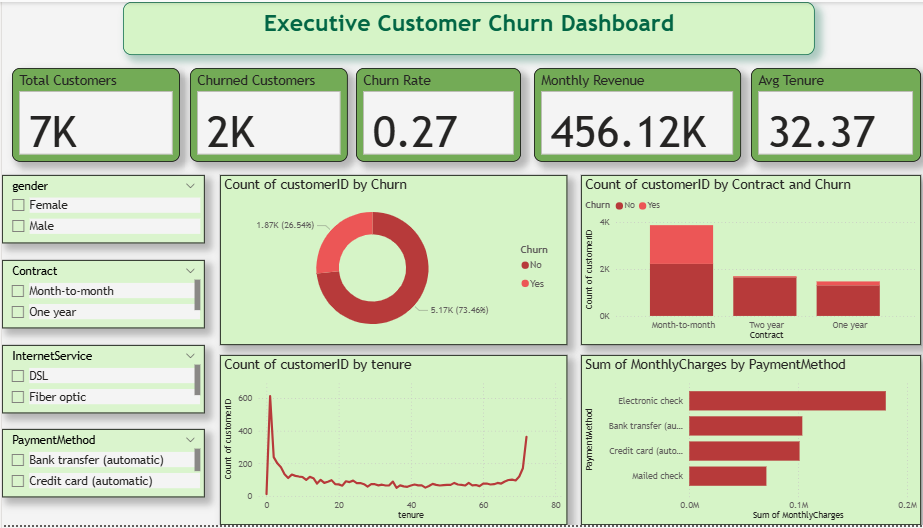

What the dashboard file says about the page in this screenshot:
{"tool":"powerbi","page":{"name":"Executive Customer Churn Dashboard","canvas":[1280,720],"ordinal":0},"visuals":[{"type":"cardVisual","title":"Total Customers","fields":{"Data":["telco.Total Customers"]},"box":[13.8,90.8,231.2,129.4],"z":2},{"type":"cardVisual","title":"Churned Customers","fields":{"Data":["telco.Churned Customers"]},"box":[258.8,90.8,217.5,129.4],"z":6},{"type":"cardVisual","title":"Churn Rate","fields":{"Data":["telco.Churn Rate"]},"box":[487.2,90.8,227.1,129.4],"z":7},{"type":"cardVisual","title":"Monthly Revenue","fields":{"Data":["telco.Monthly Revenue"]},"box":[732.2,90.8,284.9,129.4],"z":8},{"type":"cardVisual","title":"Avg Tenure","fields":{"Data":["telco.Avg Tenure"]},"box":[1030.9,90.8,234,129.4],"z":9},{"type":"textbox","box":[393.6,360.6,12.4,50.9],"z":10},{"type":"donutChart","fields":{"Category":["telco.Churn"],"Y":["CountNonNull(telco.customerID)"]},"box":[300,238.1,477.6,234],"z":11},{"type":"columnChart","fields":{"Category":["telco.Contract"],"Y":["CountNonNull(telco.customerID)"],"Series":["telco.Churn"]},"box":[796.9,238.1,468,234],"z":12},{"type":"barChart","fields":{"Category":["telco.PaymentMethod"],"Y":["Sum(telco.MonthlyCharges)"]},"box":[796.9,485.8,468,234],"z":13},{"type":"lineChart","fields":{"Category":["telco.tenure"],"Y":["CountNonNull(telco.customerID)"]},"box":[300,485.8,477.6,234],"z":14},{"type":"slicer","fields":{"Values":["telco.gender"]},"box":[0,238.1,279.4,93.6],"z":15},{"type":"slicer","fields":{"Values":["telco.Contract"]},"box":[0,355.1,279.4,93.6],"z":16},{"type":"slicer","fields":{"Values":["telco.InternetService"]},"box":[0,472.1,279.4,93.6],"z":17},{"type":"slicer","fields":{"Values":["telco.PaymentMethod"]},"box":[0,587.7,279.4,93.6],"z":18},{"type":"textbox","box":[166.5,0,952.4,72.9],"z":19}]}

Visuals, with their boxes in screenshot pixels (x1, y1, x2, y2), scaled from the page's 1280x720 canvas onto the 923x528 screenshot:
"Total Customers" cardVisual: {"left": 10, "top": 67, "right": 177, "bottom": 161}
"Churned Customers" cardVisual: {"left": 187, "top": 67, "right": 343, "bottom": 161}
"Churn Rate" cardVisual: {"left": 351, "top": 67, "right": 515, "bottom": 161}
"Monthly Revenue" cardVisual: {"left": 528, "top": 67, "right": 733, "bottom": 161}
"Avg Tenure" cardVisual: {"left": 743, "top": 67, "right": 912, "bottom": 161}
textbox: {"left": 284, "top": 264, "right": 293, "bottom": 302}
donutChart - telco.Churn x CountNonNull(telco.customerID): {"left": 216, "top": 175, "right": 561, "bottom": 346}
columnChart - telco.Contract x CountNonNull(telco.customerID): {"left": 575, "top": 175, "right": 912, "bottom": 346}
barChart - telco.PaymentMethod x Sum(telco.MonthlyCharges): {"left": 575, "top": 356, "right": 912, "bottom": 527}
lineChart - telco.tenure x CountNonNull(telco.customerID): {"left": 216, "top": 356, "right": 561, "bottom": 527}
slicer - telco.gender: {"left": 0, "top": 175, "right": 201, "bottom": 243}
slicer - telco.Contract: {"left": 0, "top": 260, "right": 201, "bottom": 329}
slicer - telco.InternetService: {"left": 0, "top": 346, "right": 201, "bottom": 415}
slicer - telco.PaymentMethod: {"left": 0, "top": 431, "right": 201, "bottom": 500}
textbox: {"left": 120, "top": 0, "right": 807, "bottom": 53}
